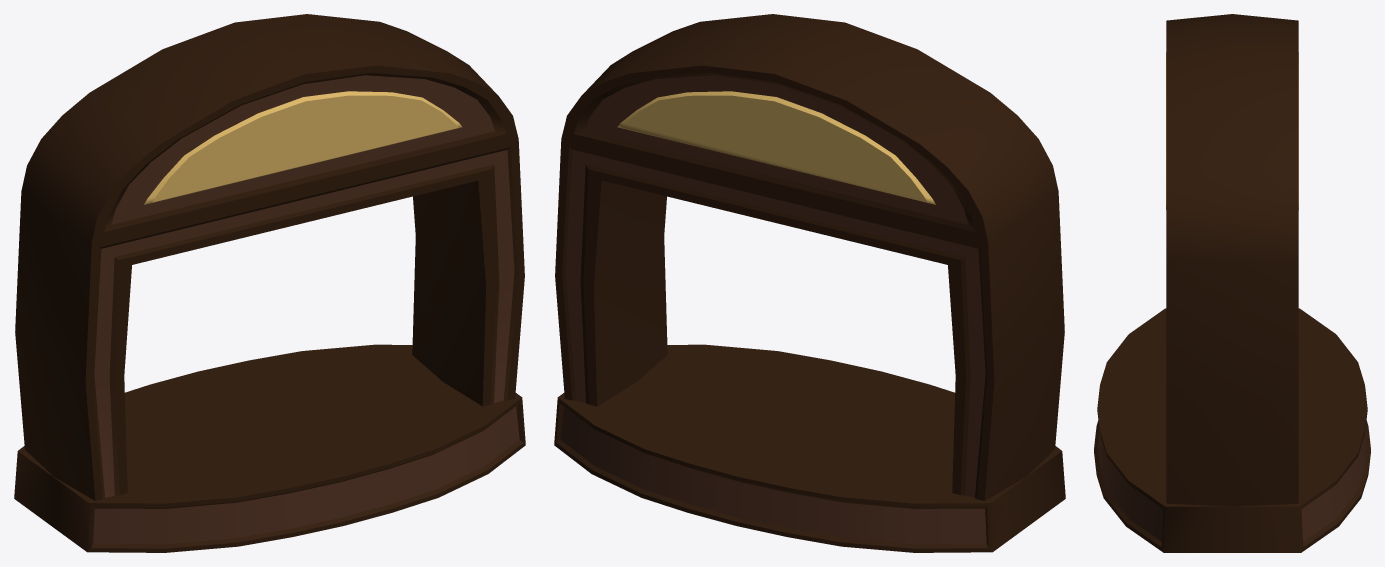
File: DiningWindow.fbx
The picture shows the model from 3 angles, left to right: view 1: azimuth 30°, elevation 25°; view 2: azimuth 150°, elevation 25°; view 3: azimuth 270°, elevation 25°; orthographic projection. The views are drawn at different scales.
Visible parts, largest first — view 1: KitchenOpening:KitchenOpening2; view 2: KitchenOpening:KitchenOpening2; view 3: KitchenOpening:KitchenOpening2.
Part boxes in pixels (left/top/right/bottom): KitchenOpening:KitchenOpening2: left=14, top=14, right=525, bottom=552; KitchenOpening:KitchenOpening2: left=554, top=14, right=1065, bottom=552; KitchenOpening:KitchenOpening2: left=1094, top=14, right=1370, bottom=552.
Size of the model in its own units: 370 by 337 by 209.
